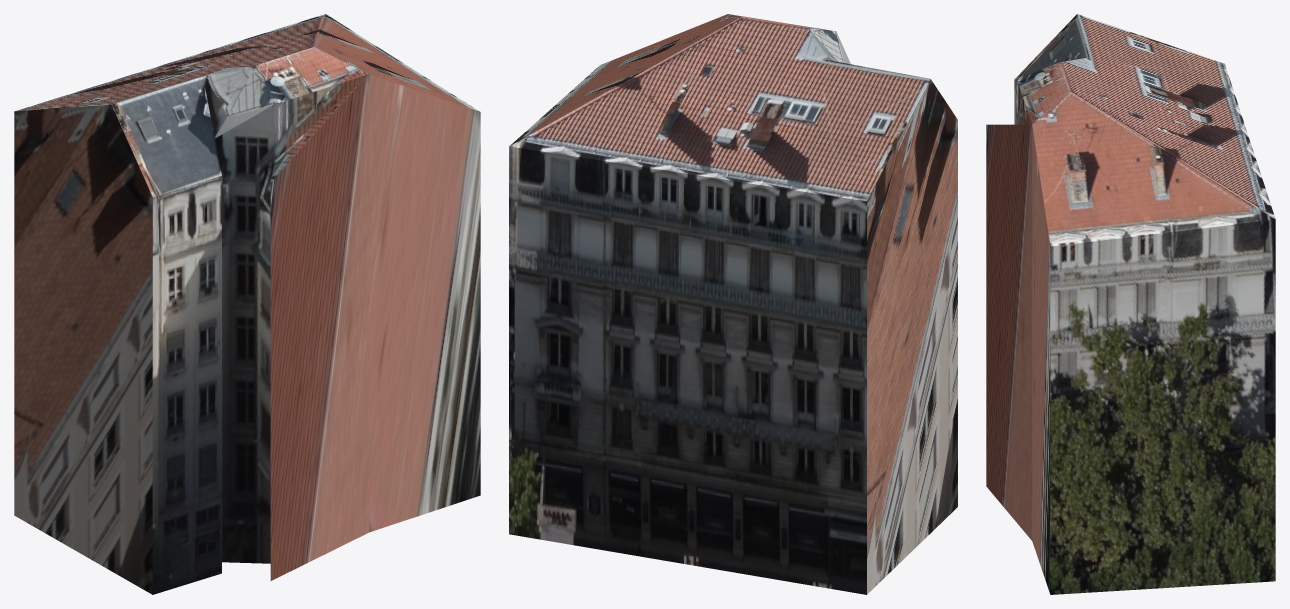
3 renders of one model, left to right at view 1: azimuth 30°, elevation 25°; view 2: azimuth 150°, elevation 25°; view 3: azimuth 270°, elevation 25°, orthographic. The views are drawn at different scales.
Visible parts, largest first — view 1: Z_UP; view 2: Z_UP; view 3: Z_UP.
Boxes of the visible parts, bbox=[...] form: Z_UP: bbox=[14, 14, 480, 594]; Z_UP: bbox=[509, 14, 957, 594]; Z_UP: bbox=[986, 14, 1275, 594].
Size of the model in its own units: 22.75 by 28.18 by 16.97.
Materials: 2 (1 with a texture image).
